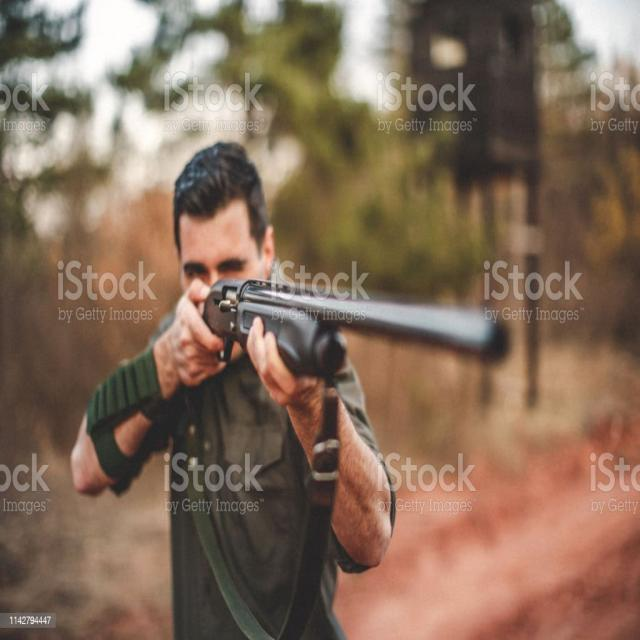ShotGun: (204, 278, 511, 378)
